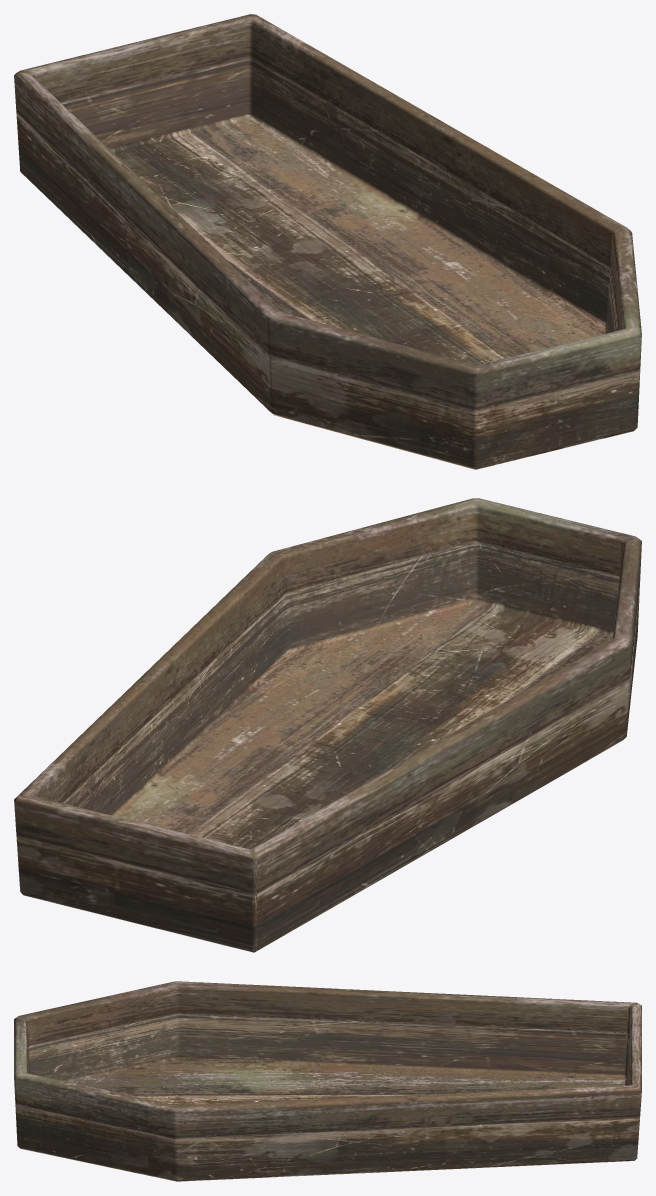
3 views of the same model, one above another, from view 1: azimuth 30°, elevation 25°; view 2: azimuth 150°, elevation 25°; view 3: azimuth 270°, elevation 25° (orthographic). The views are drawn at different scales.
Visible parts, largest first — view 1: SM_Coffin_Wooden_Base_LOD0; view 2: SM_Coffin_Wooden_Base_LOD0; view 3: SM_Coffin_Wooden_Base_LOD0.
Boxes of the visible parts, <box> form: SM_Coffin_Wooden_Base_LOD0: <box>14,14,641,469</box>; SM_Coffin_Wooden_Base_LOD0: <box>14,498,641,952</box>; SM_Coffin_Wooden_Base_LOD0: <box>14,981,641,1181</box>.
Size of the model in its own units: 1.15 by 0.3087 by 2.33.
1 material, 1 textured.
